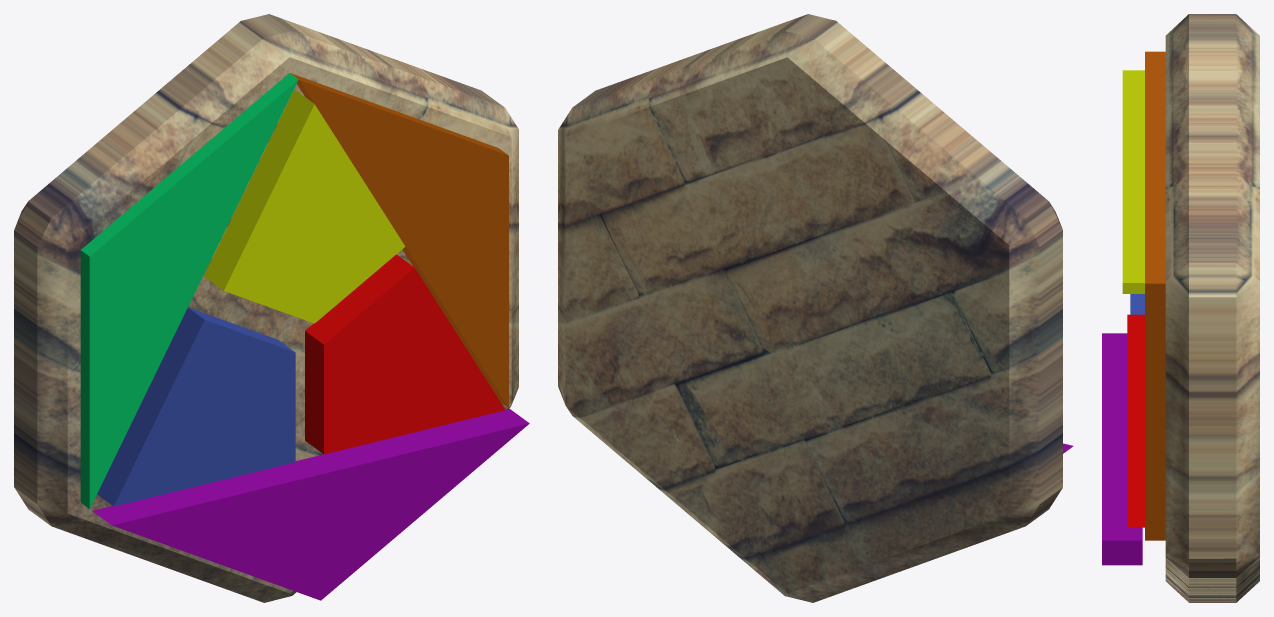
File: reief.fbx
3 views of the same model, side by side, from view 1: azimuth 30°, elevation 25°; view 2: azimuth 150°, elevation 25°; view 3: azimuth 270°, elevation 25° (orthographic).
Parts seen in each view (by area): view 1: pCone1, pCone5, pCone3, pCone2, pCone9, pCone10, pCone6; view 2: pCone1; view 3: pCone1, pCone2, pCone5, pCone9, pCone6, pCone10.
Part boxes in pixels (x1,y1,x2,y2): pCone1: [14, 14, 518, 602]; pCone5: [92, 409, 529, 600]; pCone3: [80, 73, 298, 508]; pCone2: [290, 73, 508, 407]; pCone9: [204, 89, 405, 323]; pCone10: [97, 307, 295, 506]; pCone6: [305, 254, 505, 454]; pCone1: [558, 14, 1062, 602]; pCone1: [1165, 14, 1259, 602]; pCone2: [1145, 51, 1165, 540]; pCone5: [1102, 333, 1142, 565]; pCone9: [1122, 70, 1144, 293]; pCone6: [1127, 314, 1144, 527]; pCone10: [1130, 294, 1144, 314].
Bounding box in the file's own units: 261 × 293 × 72.83.
